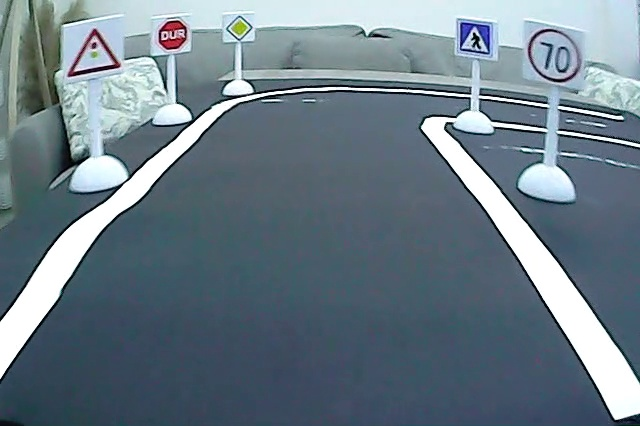pedestrian crossing: (457, 20, 493, 57)
red light: (65, 24, 123, 80)
speed limit 70: (526, 26, 583, 87)
stop sign: (156, 18, 191, 55)
